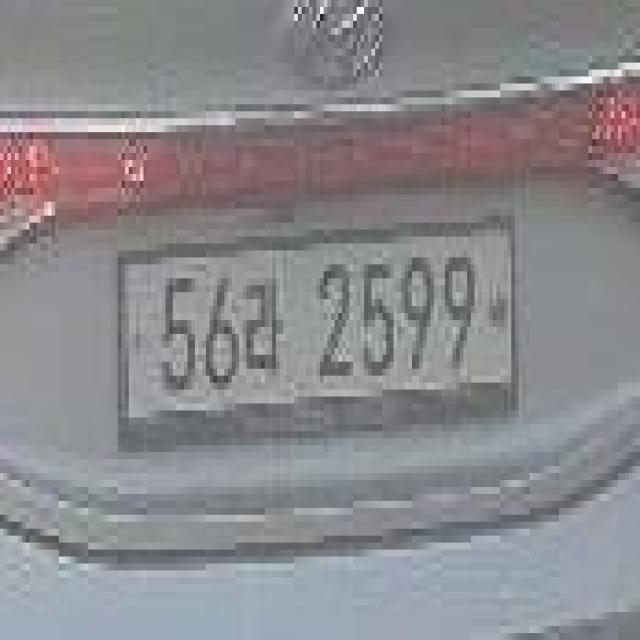illegal_plate: (116, 224, 530, 446)
